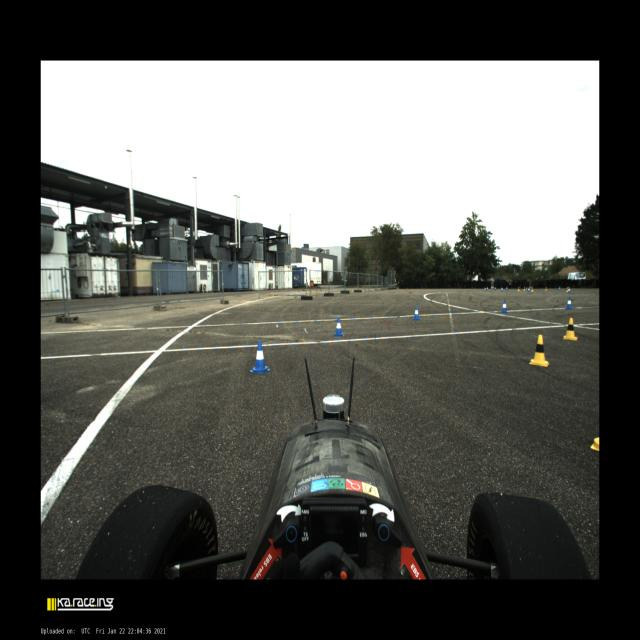blue_cone: (250, 341, 270, 374), (334, 317, 344, 337), (500, 300, 508, 313), (413, 306, 420, 320), (565, 297, 573, 309), (528, 287, 530, 292), (568, 288, 570, 292), (506, 286, 508, 290), (501, 287, 503, 291), (484, 287, 486, 291), (495, 286, 496, 290), (487, 286, 488, 290), (559, 287, 560, 290)
yellow_cone: (529, 334, 549, 366), (563, 318, 578, 340), (531, 287, 533, 292), (566, 287, 568, 292), (545, 286, 547, 290), (518, 287, 520, 291), (524, 286, 525, 291)
